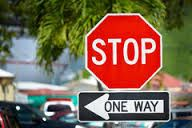stop_sign: (83, 12, 163, 90)
